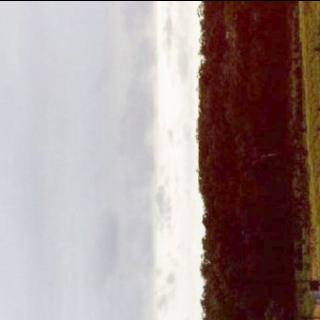Stratus: (0, 0, 171, 320)
